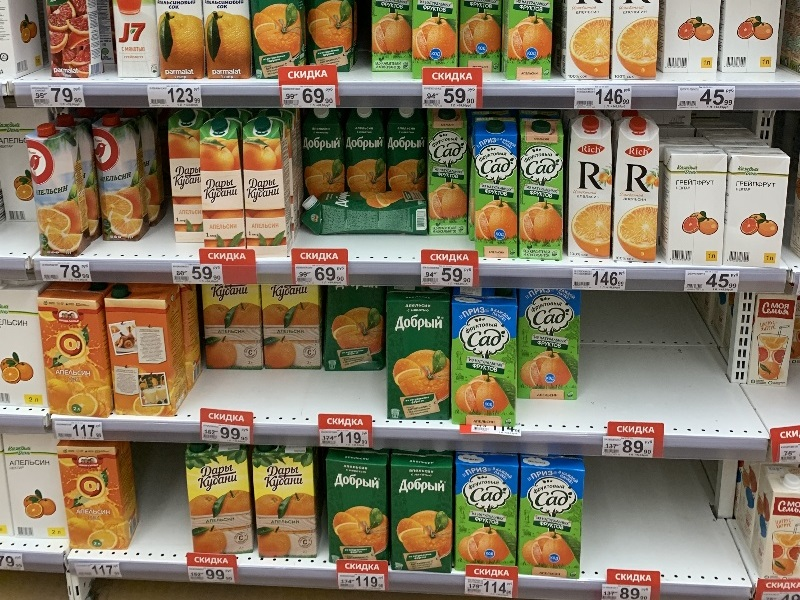juice: (102, 284, 194, 424), (448, 287, 522, 435), (22, 120, 99, 257), (515, 452, 593, 587), (172, 442, 261, 559), (384, 285, 456, 429), (387, 449, 463, 579), (58, 438, 144, 550), (610, 112, 669, 261), (415, 106, 478, 242), (515, 116, 571, 266), (563, 113, 619, 262), (237, 117, 295, 260), (451, 454, 523, 569), (468, 116, 523, 263), (324, 450, 393, 564), (90, 114, 150, 245), (201, 116, 248, 253)
